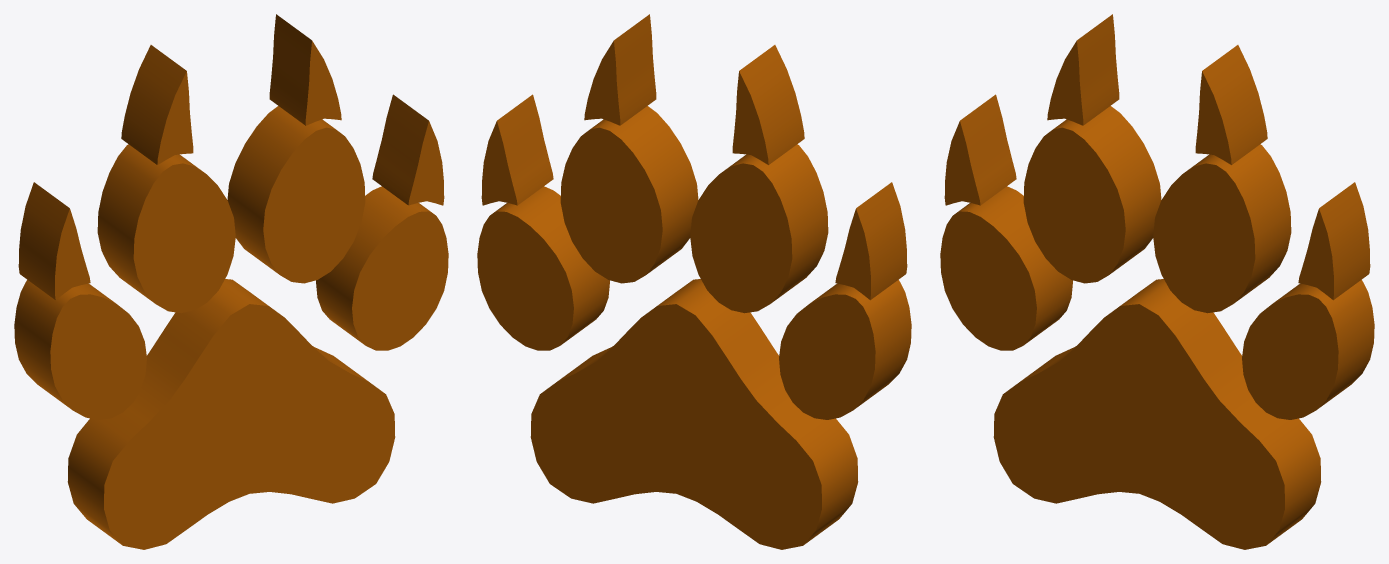
File: claws.fbx
3 renders of one model, left to right at view 1: azimuth 30°, elevation 25°; view 2: azimuth 150°, elevation 25°; view 3: azimuth 330°, elevation 25°, orthographic.
Visible parts, largest first — view 1: claws; view 2: claws; view 3: claws.
Part boxes in pixels (<box>): claws: <box>14,14,448,549</box>; claws: <box>477,14,911,549</box>; claws: <box>940,14,1374,549</box>.
Size of the model in its own units: 1.37 by 1.55 by 0.2154.
1 material, 1 textured.
